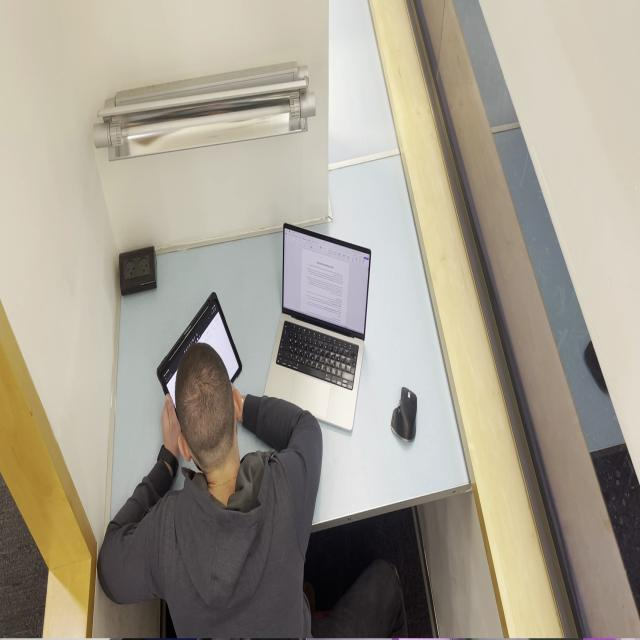bag: (157, 288, 247, 448)
ipad: (96, 342, 408, 639)
laptop: (263, 222, 371, 433)
mouse: (390, 386, 417, 443)
